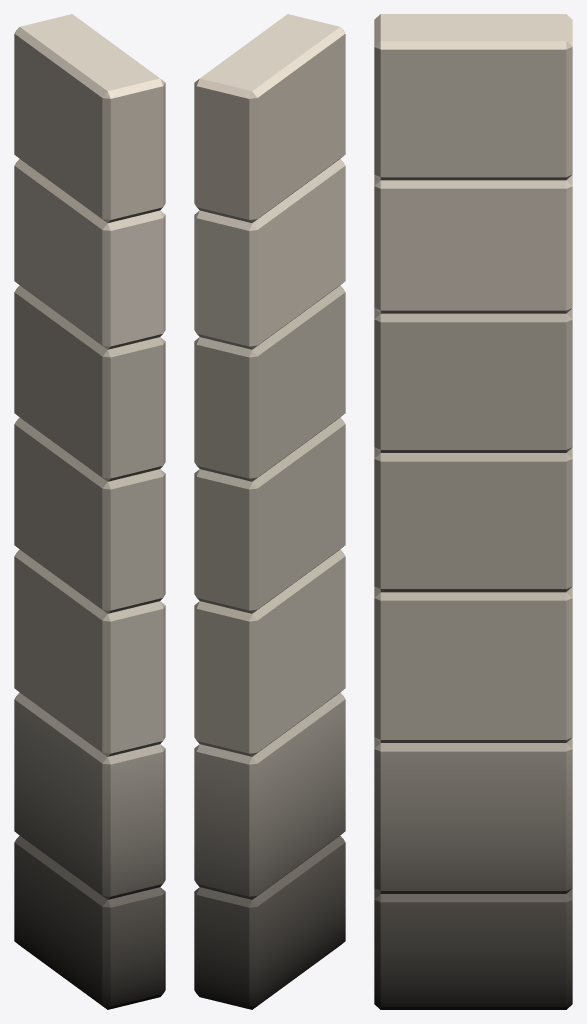
File: SM_VKI_Post_Stone_Mid_Full.fbx
3 views of the same model, side by side, from view 1: azimuth 30°, elevation 25°; view 2: azimuth 150°, elevation 25°; view 3: azimuth 270°, elevation 25° (orthographic). The views are drawn at different scales.
Parts seen in each view (by area): view 1: SM_VKI_Post_Stone_Mid_Full.001; view 2: SM_VKI_Post_Stone_Mid_Full.001; view 3: SM_VKI_Post_Stone_Mid_Full.001.
Part boxes in pixels (x1,y1,x2,y2): SM_VKI_Post_Stone_Mid_Full.001: (14,14,165,1009); SM_VKI_Post_Stone_Mid_Full.001: (194,14,345,1009); SM_VKI_Post_Stone_Mid_Full.001: (374,14,572,1009).
Size of the model in its own units: 0.24 by 3.34 by 0.62.
